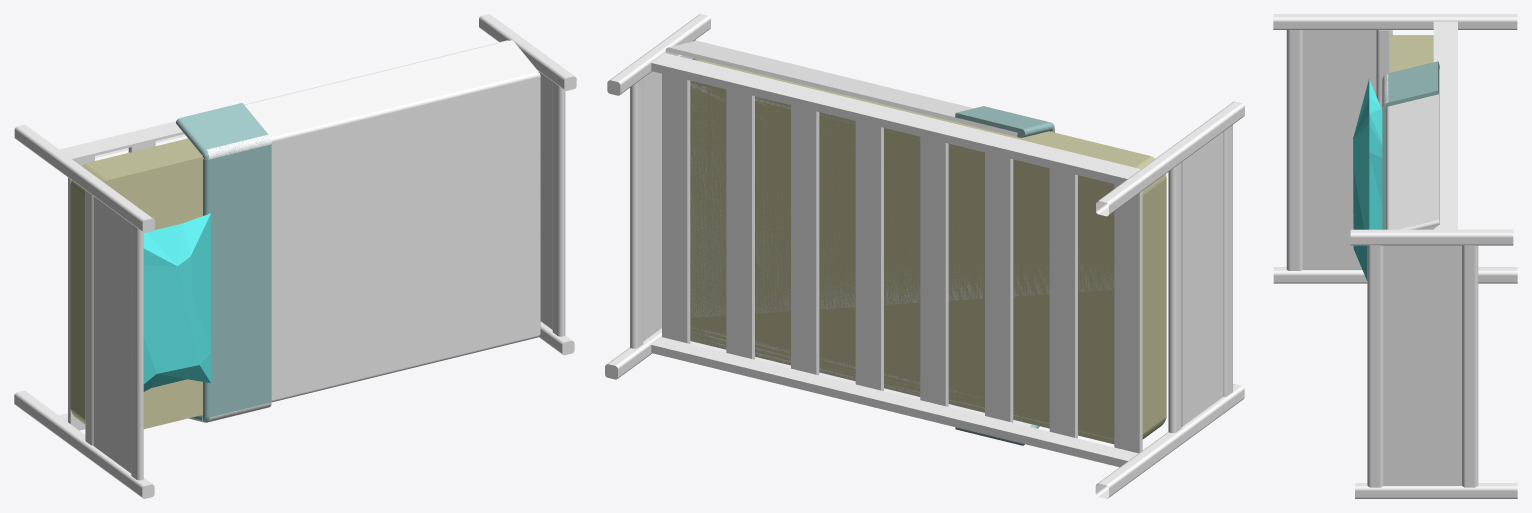
3 renders of one model, left to right at view 1: azimuth 30°, elevation 25°; view 2: azimuth 150°, elevation 25°; view 3: azimuth 270°, elevation 25°, orthographic. The views are drawn at different scales.
Visible parts, largest first — view 1: bed; view 2: bed; view 3: bed.
Boxes of the visible parts, x1,y1,x2,y2 form: bed: (14,14,576,498); bed: (605,14,1244,498); bed: (1273,14,1517,498).
Bounding box in the file's own units: 75.84 × 45.52 × 35.5.
